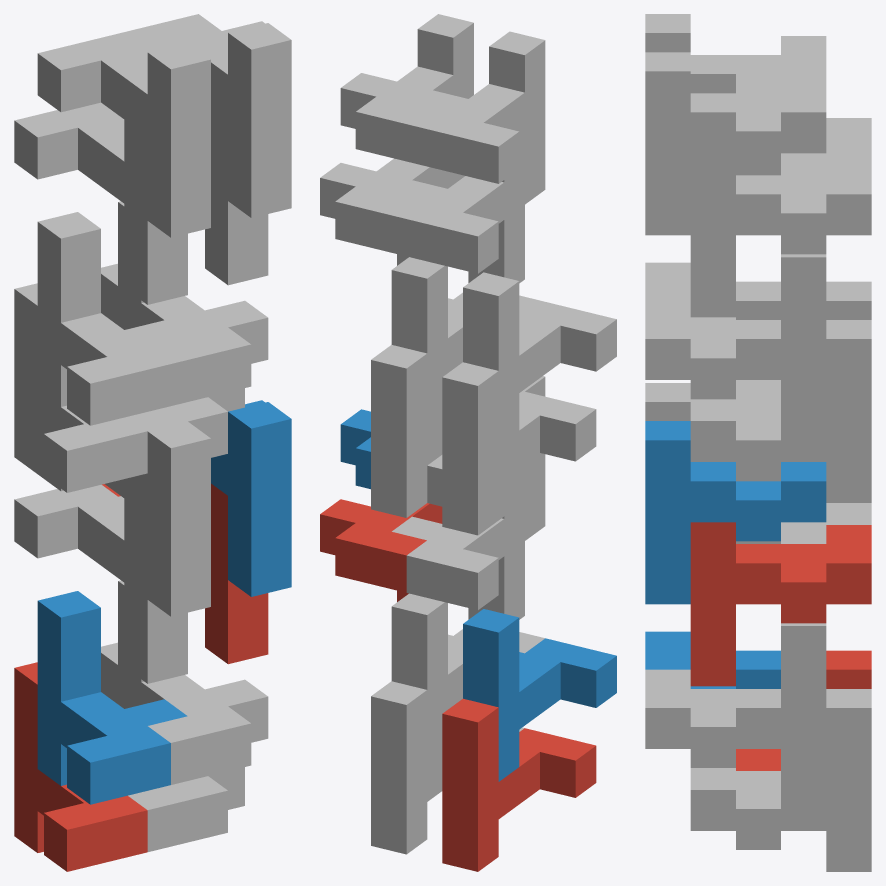
Rendered from tiling.obj.
3 renders of one model, left to right at view 1: azimuth 30°, elevation 25°; view 2: azimuth 150°, elevation 25°; view 3: azimuth 270°, elevation 25°, orthographic. The views are drawn at different scales.
Visible parts, largest first — view 1: copy_2_domain_4, copy_1_domain_2, copy_1_domain_4, copy_2_domain_8, copy_2_domain_3, copy_2_domain_1, copy_2_domain_2, copy_2_domain_6, copy_1_domain_1, copy_1_domain_3, copy_1_domain_8, copy_1_domain_6 (+4 smaller); view 2: copy_1_domain_3, copy_1_domain_1, copy_2_domain_4, copy_1_domain_4, copy_1_domain_2, copy_2_domain_8, copy_2_domain_3, copy_2_domain_1, copy_1_domain_5, copy_1_domain_7, copy_2_domain_7, copy_1_domain_8 (+4 smaller); view 3: copy_2_domain_8, copy_1_domain_6, copy_1_domain_8, copy_2_domain_5, copy_2_domain_7, copy_1_domain_7, copy_2_domain_6, copy_1_domain_5, copy_2_domain_4, copy_1_domain_2, copy_1_domain_4, copy_2_domain_3 (+4 smaller).
Boxes of the visible parts, left/top/right/bottom form: copy_2_domain_4: left=37, top=33, right=210, bottom=237; copy_1_domain_2: left=37, top=591, right=187, bottom=804; copy_1_domain_4: left=37, top=212, right=187, bottom=425; copy_2_domain_8: left=118, top=14, right=291, bottom=217; copy_2_domain_3: left=14, top=103, right=187, bottom=304; copy_2_domain_1: left=14, top=484, right=187, bottom=683; copy_2_domain_2: left=37, top=421, right=210, bottom=616; copy_2_domain_6: left=211, top=400, right=291, bottom=596; copy_1_domain_1: left=14, top=662, right=147, bottom=871; copy_1_domain_3: left=14, top=283, right=147, bottom=492; copy_1_domain_8: left=118, top=201, right=268, bottom=405; copy_1_domain_6: left=118, top=580, right=268, bottom=784; copy_1_domain_3: left=442, top=362, right=596, bottom=535; copy_1_domain_1: left=442, top=698, right=596, bottom=871; copy_2_domain_4: left=412, top=31, right=545, bottom=204; copy_1_domain_4: left=463, top=272, right=616, bottom=445; copy_1_domain_2: left=463, top=609, right=616, bottom=781; copy_2_domain_8: left=340, top=14, right=473, bottom=184; copy_2_domain_3: left=392, top=130, right=524, bottom=283; copy_2_domain_1: left=392, top=466, right=524, bottom=619; copy_1_domain_5: left=371, top=681, right=524, bottom=854; copy_1_domain_7: left=371, top=345, right=524, bottom=517; copy_2_domain_7: left=320, top=158, right=453, bottom=265; copy_1_domain_8: left=391, top=257, right=544, bottom=427; copy_2_domain_8: left=645, top=52, right=826, bottom=235; copy_1_domain_6: left=645, top=623, right=826, bottom=789; copy_1_domain_8: left=645, top=254, right=826, bottom=420; copy_2_domain_5: left=690, top=522, right=871, bottom=686; copy_2_domain_7: left=690, top=153, right=871, bottom=317; copy_1_domain_7: left=690, top=320, right=871, bottom=502; copy_2_domain_6: left=645, top=421, right=826, bottom=604; copy_1_domain_5: left=690, top=689, right=871, bottom=871; copy_2_domain_4: left=645, top=14, right=826, bottom=93; copy_1_domain_2: left=645, top=631, right=780, bottom=688; copy_1_domain_4: left=645, top=262, right=780, bottom=319; copy_2_domain_3: left=736, top=118, right=871, bottom=175.
Size of the model in its own units: 6 by 20 by 5.
